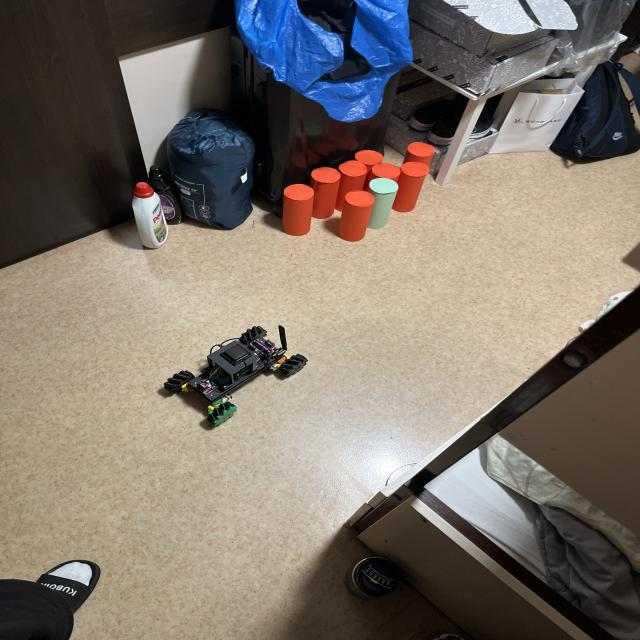robot: (164, 326, 308, 426)
